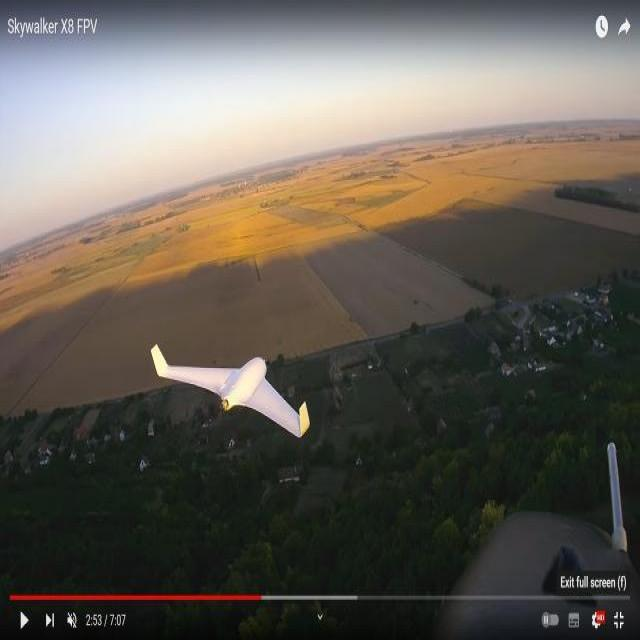iha: (148, 371, 312, 406)
